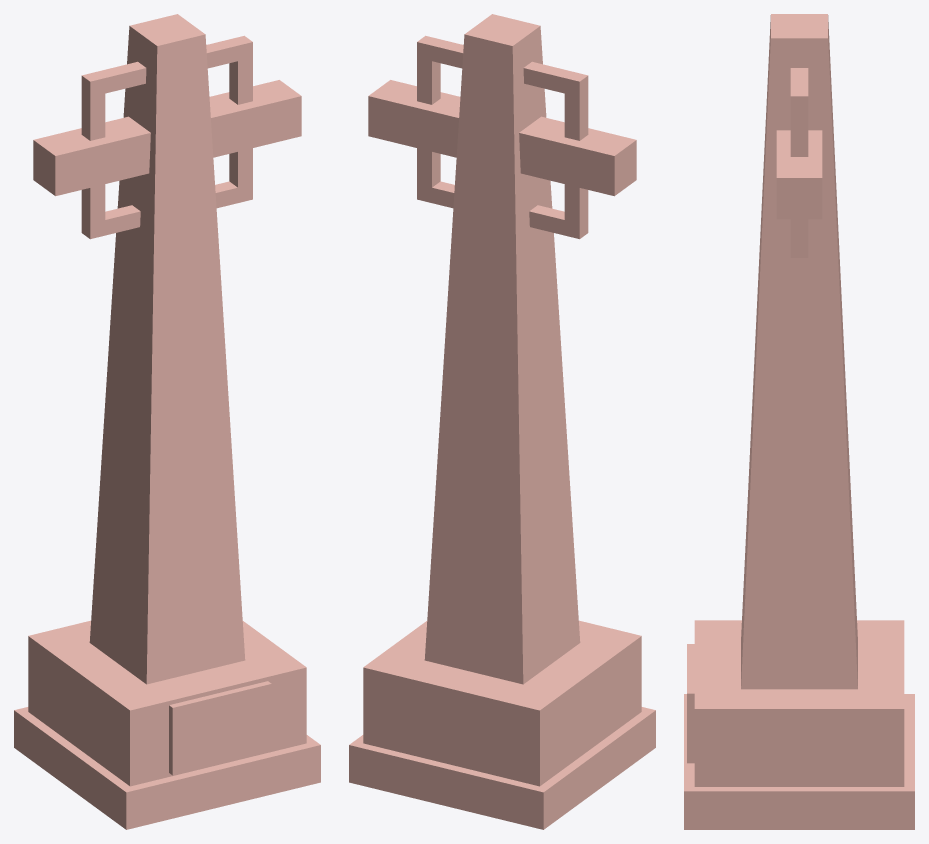
File: Mega_Asset_s_Pack_Cube_300.FBX
3 views of the same model, side by side, from view 1: azimuth 30°, elevation 25°; view 2: azimuth 150°, elevation 25°; view 3: azimuth 270°, elevation 25° (orthographic). The views are drawn at different scales.
Parts seen in each view (by area): view 1: Mega_Asset_s_Pack_Cube_300; view 2: Mega_Asset_s_Pack_Cube_300; view 3: Mega_Asset_s_Pack_Cube_300.
Boxes of the visible parts, <box> form: Mega_Asset_s_Pack_Cube_300: <box>14,14,320,829</box>; Mega_Asset_s_Pack_Cube_300: <box>349,14,655,829</box>; Mega_Asset_s_Pack_Cube_300: <box>684,14,914,829</box>.
Size of what is drawn, in the model's own units: 144 by 114 by 412.
